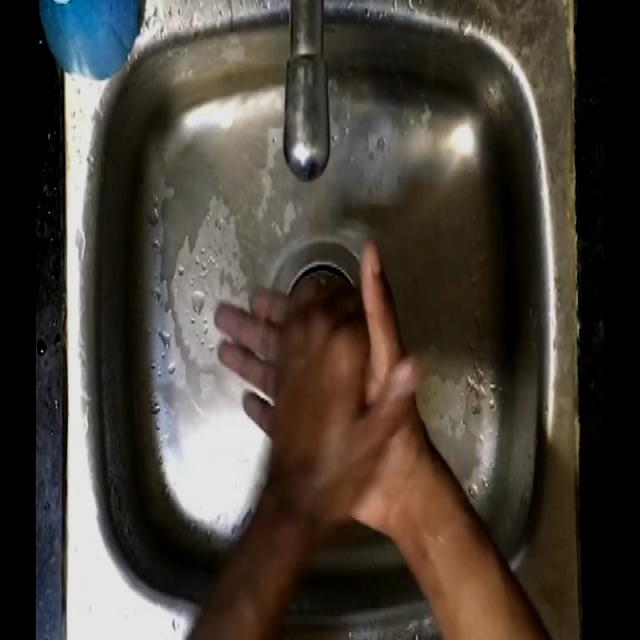step_5: (210, 242, 426, 526)
